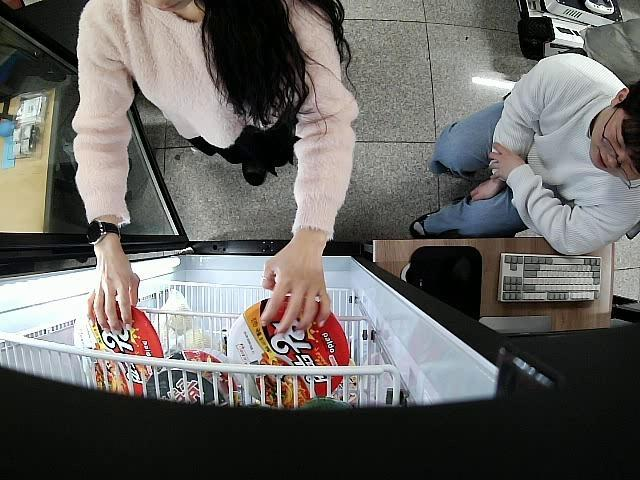10_wangTtukkeong: (227, 298, 349, 408), (72, 303, 165, 396)
